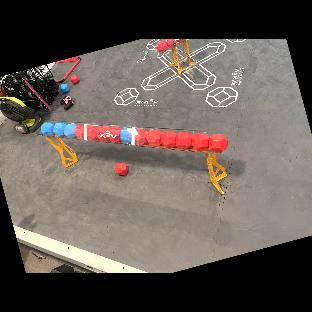V5_BLUE: (59, 82, 70, 93)
V5_RED: (111, 159, 132, 179), (68, 73, 80, 86)
blueingoal: (119, 125, 132, 144), (43, 120, 53, 135), (65, 123, 75, 138), (55, 123, 66, 135)
redingoal: (192, 129, 209, 152), (177, 127, 191, 153), (161, 129, 176, 150), (212, 135, 228, 153), (147, 128, 161, 148), (86, 123, 98, 142), (136, 126, 147, 146), (98, 124, 109, 142), (156, 39, 168, 54), (110, 125, 121, 141), (76, 123, 84, 142), (164, 39, 177, 48), (173, 39, 188, 43)
